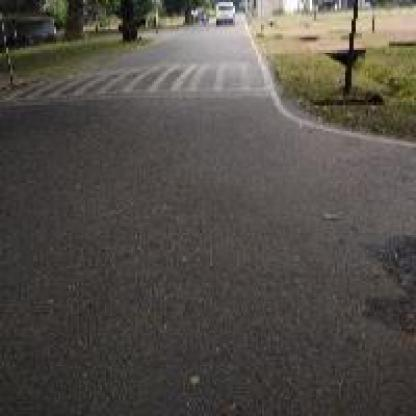Speed Bump: (2, 58, 273, 108)
